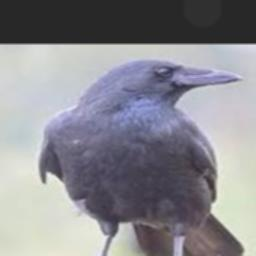Crow: (40, 59, 247, 256)
